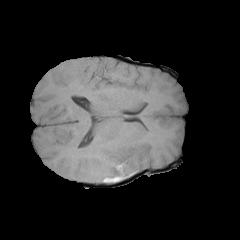glioma: (86, 146, 146, 182)
